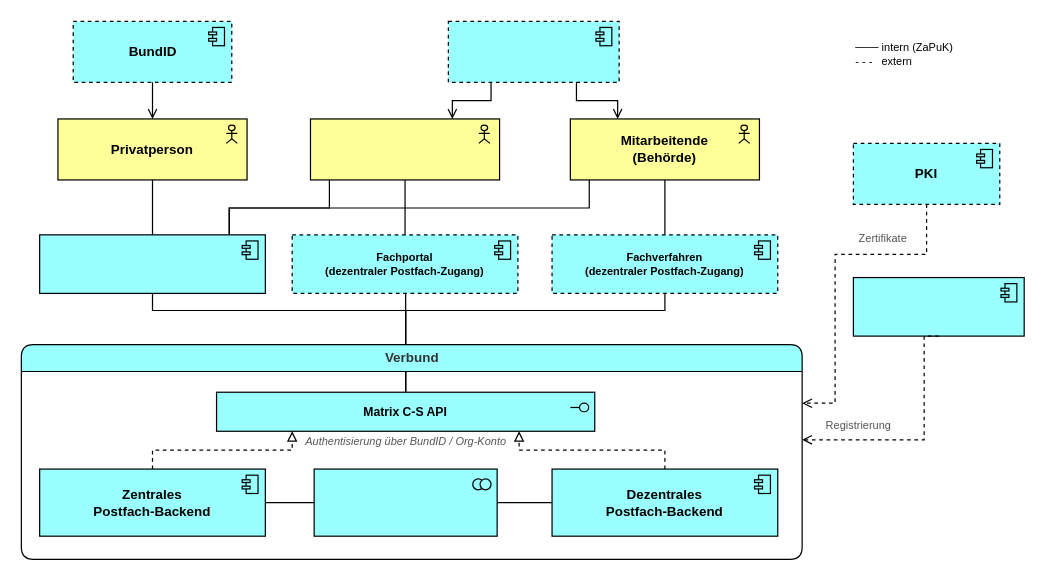
Image size: 1046x581. Some labels were removed from this diagram. The shapes that lost their labels are listed below. From the top down, each one's centre as x and y in pixels, then its label:
At (533,51): "Org-Konto (MUK)".
At (404,149): "Mitarbeitende (Unternehmen)".
At (151,263): "Zentraler Postfach-Zugang".
At (938,306): "Self-Service- Portal (SSP)".
At (405,502): "Matrix- Föderation".
